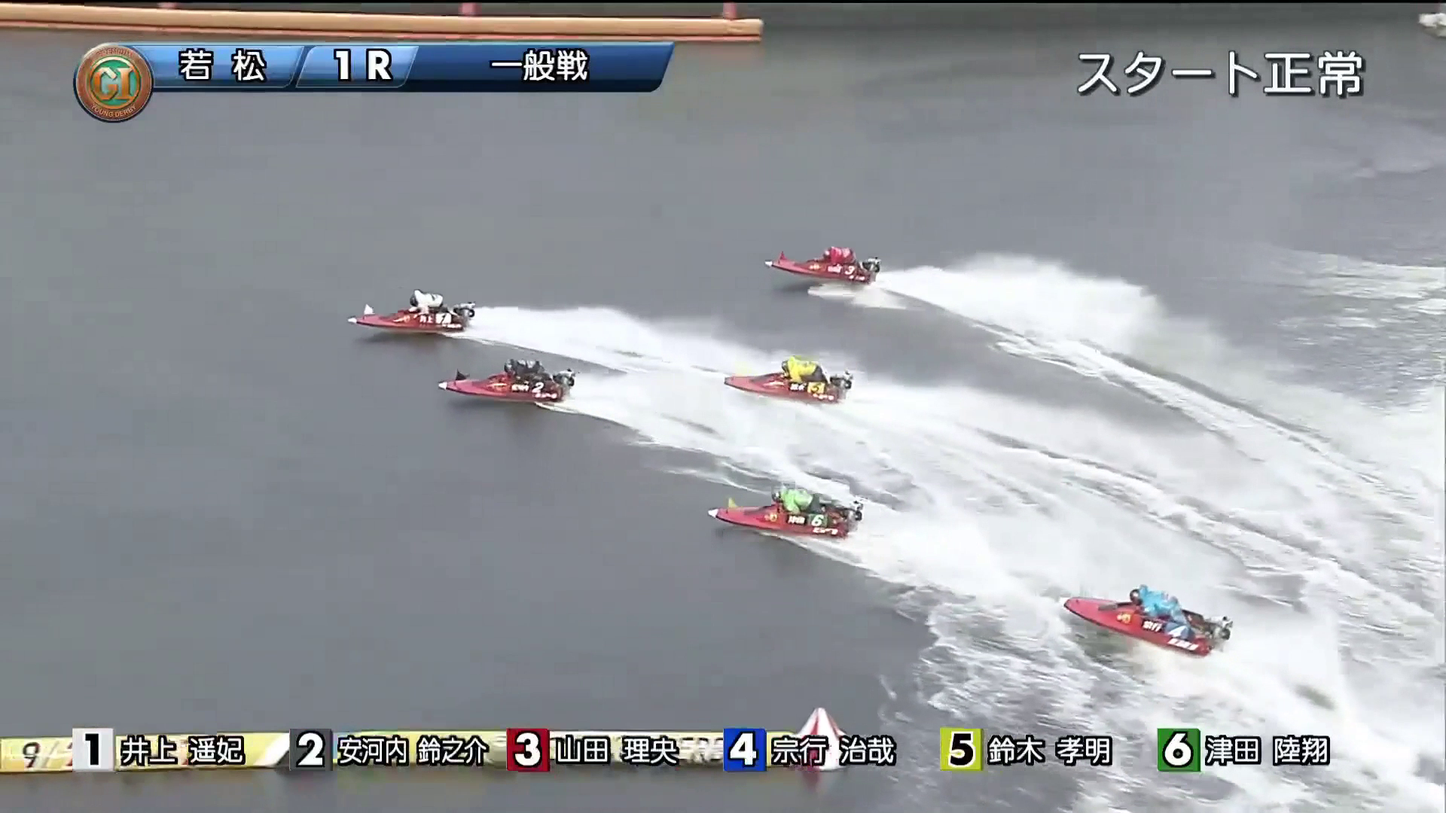１号艇: (358, 269, 428, 322)
２号艇: (425, 370, 554, 431)
３号艇: (787, 249, 885, 309)
４号艇: (748, 489, 882, 554)
５号艇: (1082, 600, 1206, 655)
６号艇: (741, 357, 841, 437)
